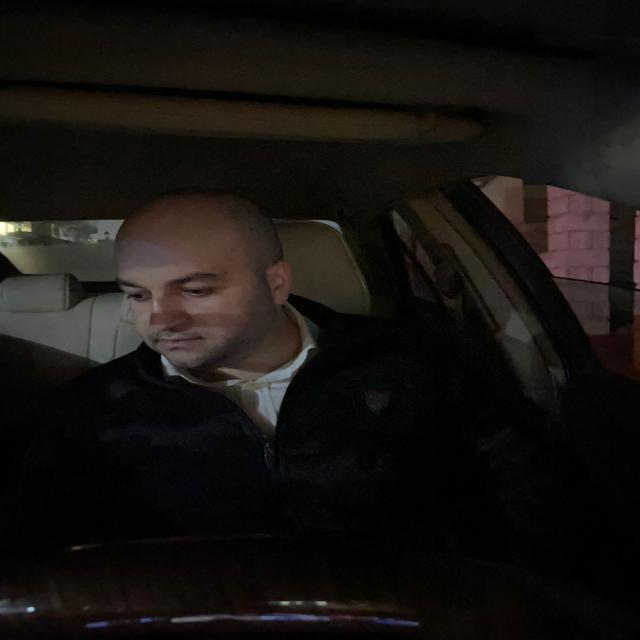person: (110, 185, 310, 374)
